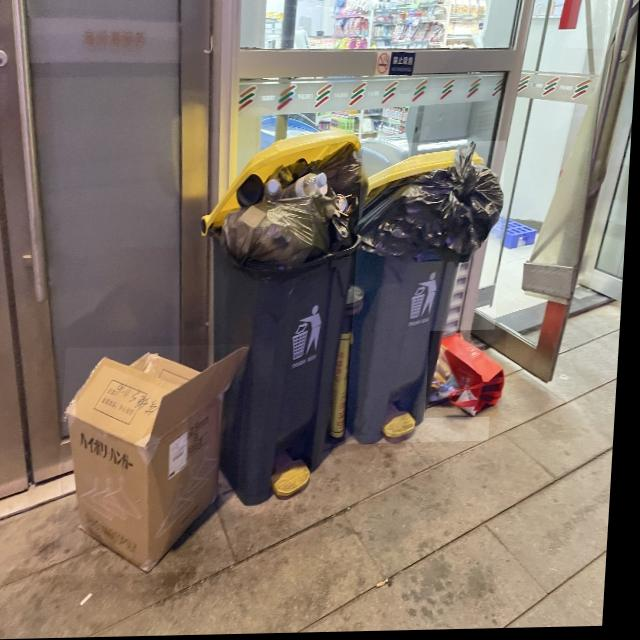garbage: (60, 345, 253, 575), (430, 332, 511, 420)
overflow: (190, 131, 373, 509), (351, 143, 508, 446)
